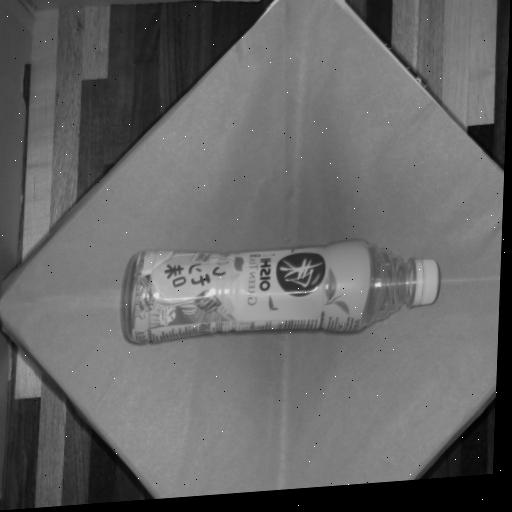bottle: (117, 212, 449, 364)
